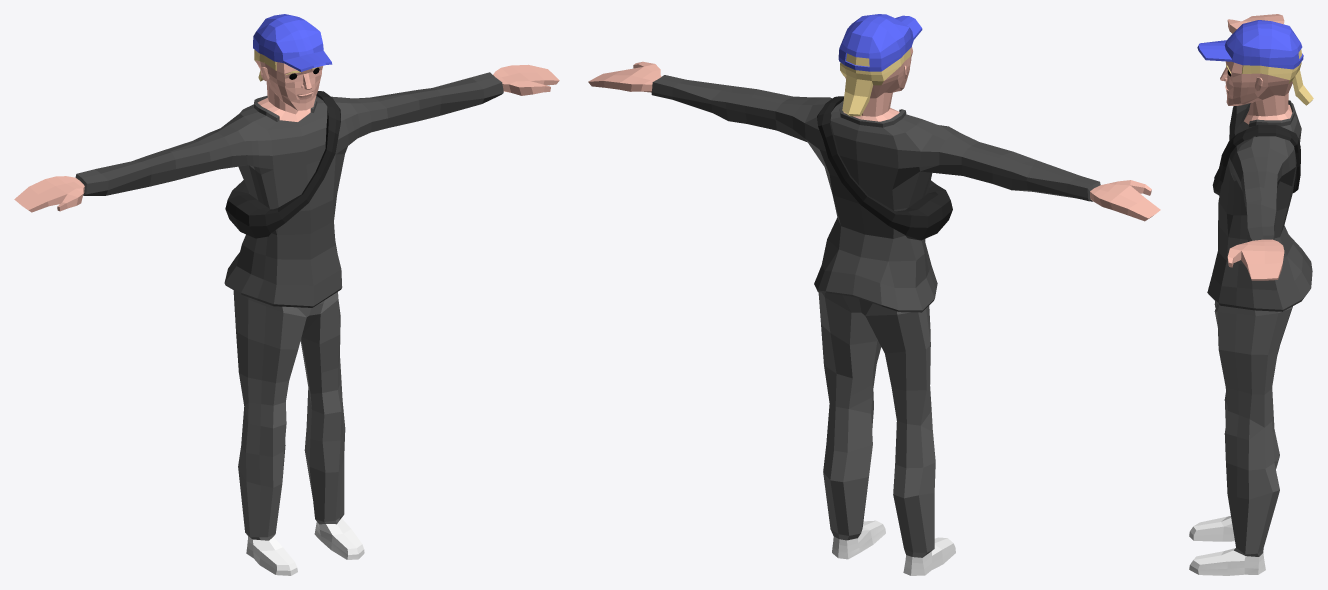
Rendered from Eshay_01.fbx.
3 views of the same model, side by side, from view 1: azimuth 30°, elevation 25°; view 2: azimuth 150°, elevation 25°; view 3: azimuth 270°, elevation 25° (orthographic). The views are drawn at different scales.
Visible parts, largest first — view 1: Eshay_01; view 2: Eshay_01; view 3: Eshay_01.
Part boxes in pixels (left/top/right/bottom): Eshay_01: left=14, top=14, right=559, bottom=575; Eshay_01: left=588, top=14, right=1160, bottom=575; Eshay_01: left=1189, top=14, right=1313, bottom=575.
Size of the model in its own units: 5.2 by 4.85 by 1.04.
